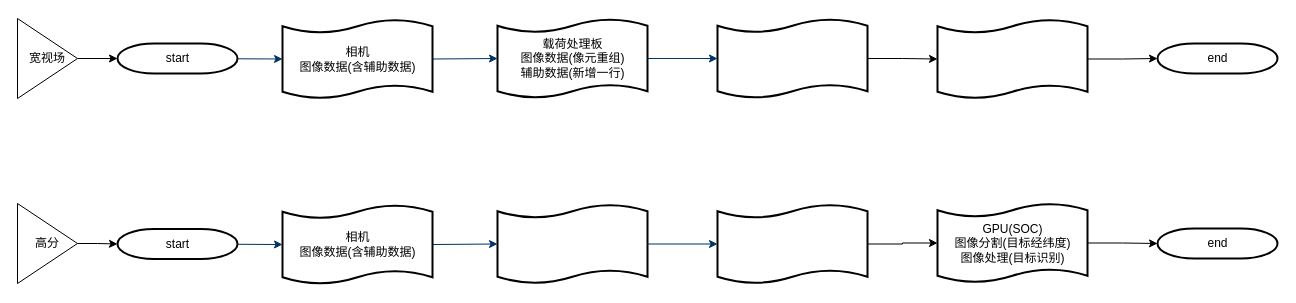
The diagram is 1296 pixels wide and 303 high, and some of its shapes have lost their labels. Here are the shapes that lost their labels. From the top down, the centre of each, then its label:
At pixel 792 58: "GPU(SOC) 图像数据(位深转换) 图像数据(灰度转换)".
At pixel 1012 58: "GPU(SOC) 图像处理(目标检测)".
At pixel 572 243: "载荷处理板 图像数据(像元重组) 辅助数据(新增一行) 目标经纬度".
At pixel 792 243: "GPU(SOC) 图像数据(位深转换) 图像数据(BGR转换)".
